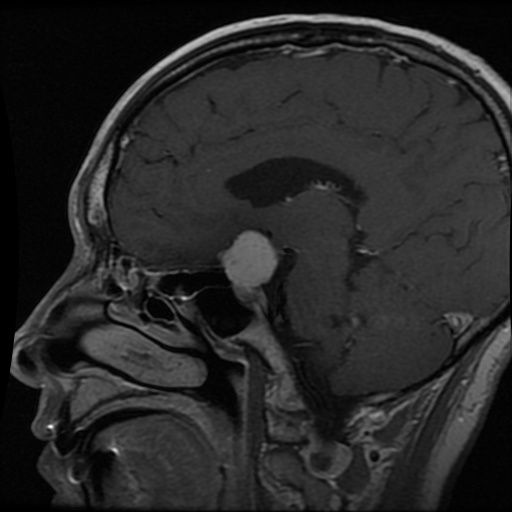meningioma: (220, 230, 278, 287)
